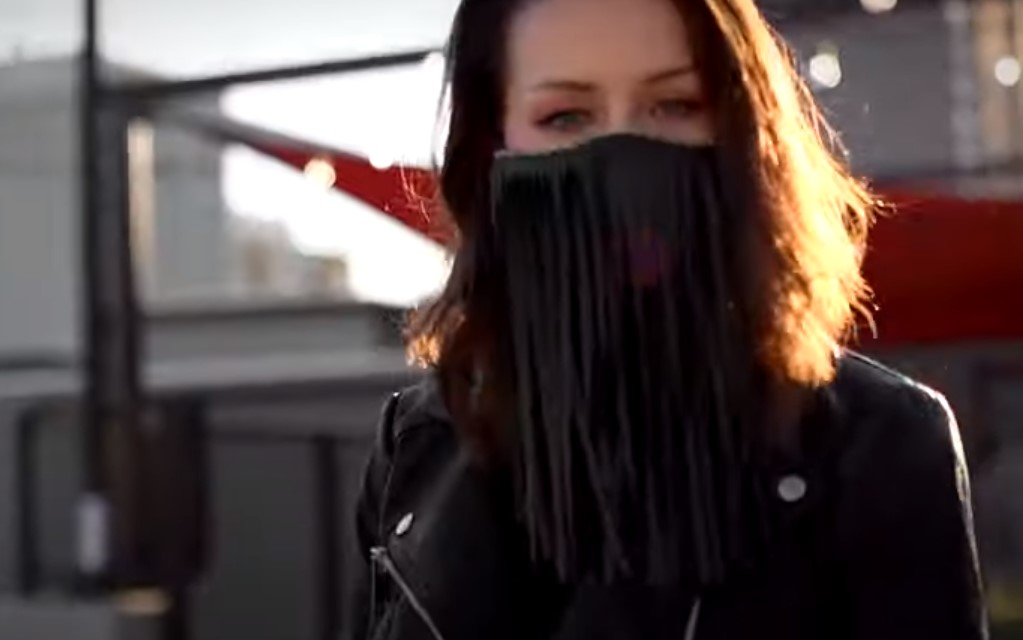face_with_mask: (444, 2, 776, 323)
